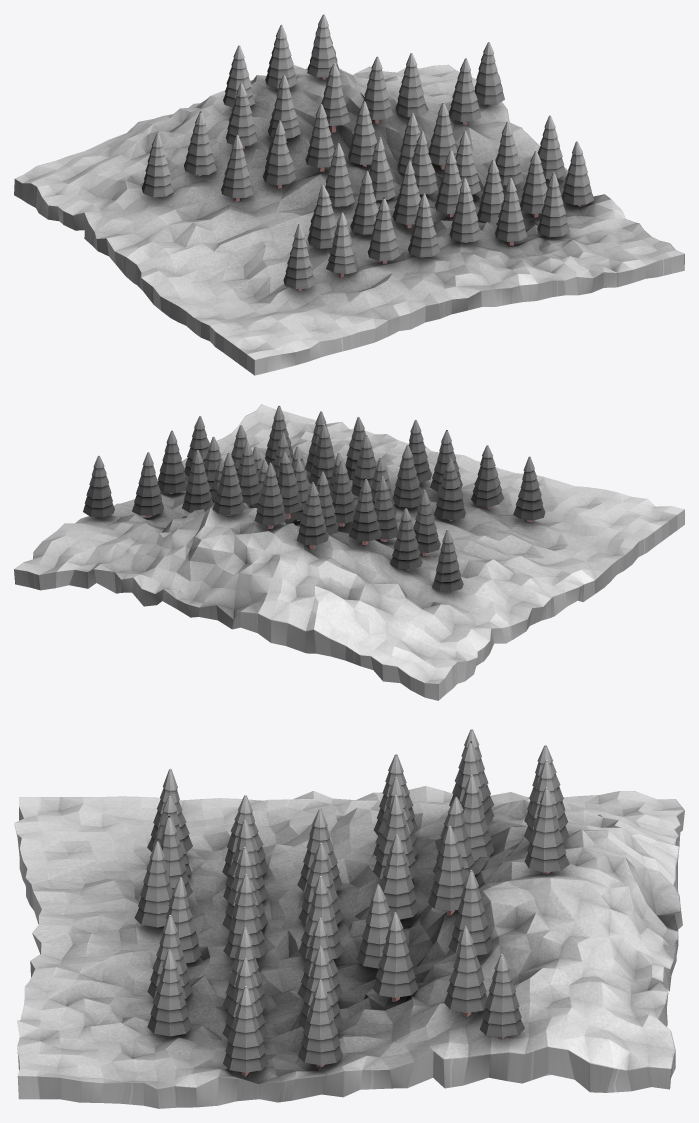
The model's file is lowpolytrees_mo.fbx.
3 views of the same model, one above another, from view 1: azimuth 30°, elevation 25°; view 2: azimuth 150°, elevation 25°; view 3: azimuth 270°, elevation 25° (orthographic). The views are drawn at different scales.
Visible parts, largest first — view 1: ground, pCylinder2 (×38); view 2: ground, pCylinder2 (×31); view 3: ground, pCylinder2 (×36).
Boxes of the visible parts, x1,y1,x2,y2 form: ground: [14, 64, 684, 375]; pCylinder2 (×38): [141, 14, 593, 289]; ground: [14, 404, 684, 700]; pCylinder2 (×31): [83, 405, 545, 591]; ground: [14, 786, 684, 1108]; pCylinder2 (×36): [134, 742, 569, 1072].
Size of the model in its own units: 15.19 by 5.37 by 14.85.
